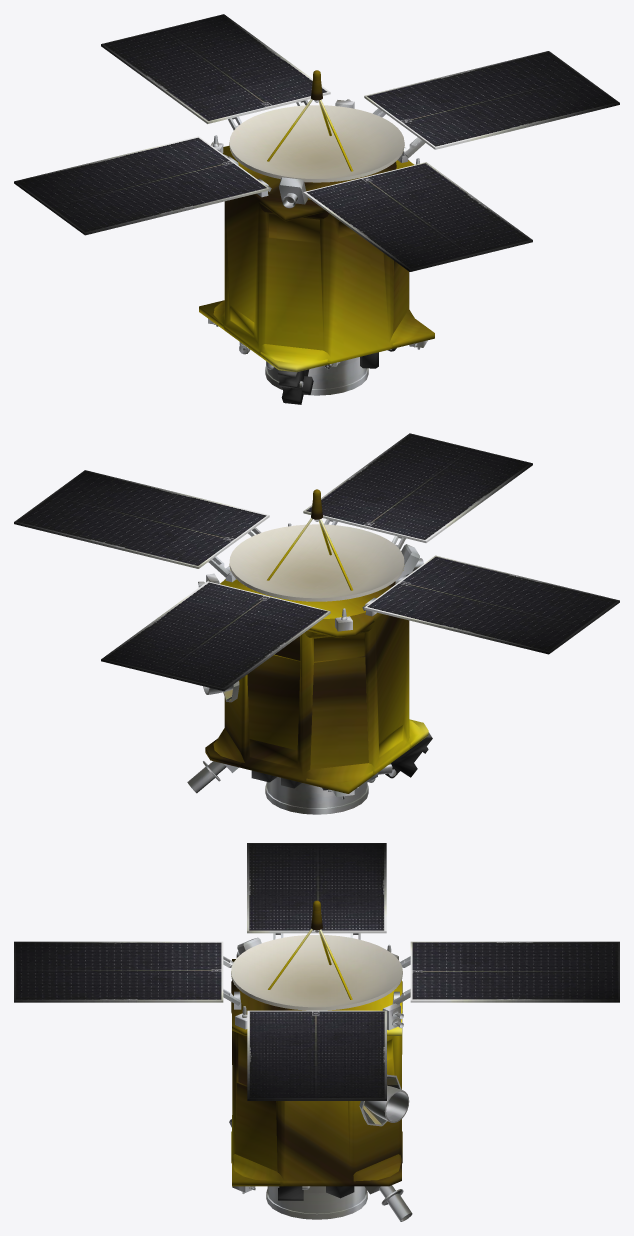
Rendered from near-shoemaker.glb.
3 views of the same model, one above another, from view 1: azimuth 30°, elevation 25°; view 2: azimuth 150°, elevation 25°; view 3: azimuth 270°, elevation 25° (orthographic).
Visible parts, largest first — view 1: shiny_panels, foil_gold, tex_01, foil_silver; view 2: shiny_panels, foil_gold, tex_01, foil_silver; view 3: shiny_panels, tex_01, foil_gold, foil_silver.
Part boxes in pixels (x1,y1,x2,y2): shiny_panels: (16,15,617,269); foil_gold: (199,70,434,372); tex_01: (14,14,619,395); foil_silver: (277,348,396,404); shiny_panels: (16,434,617,688); foil_gold: (205,489,428,793); tex_01: (14,433,619,814); foil_silver: (251,732,432,790); shiny_panels: (15,843,618,1098); tex_01: (14,843,619,1221); foil_gold: (231,900,402,1186); foil_silver: (229,1119,354,1200).
Size of the model in its own units: 5.29 by 2.86 by 5.29.
Materials: 3 (3 with a texture image).
